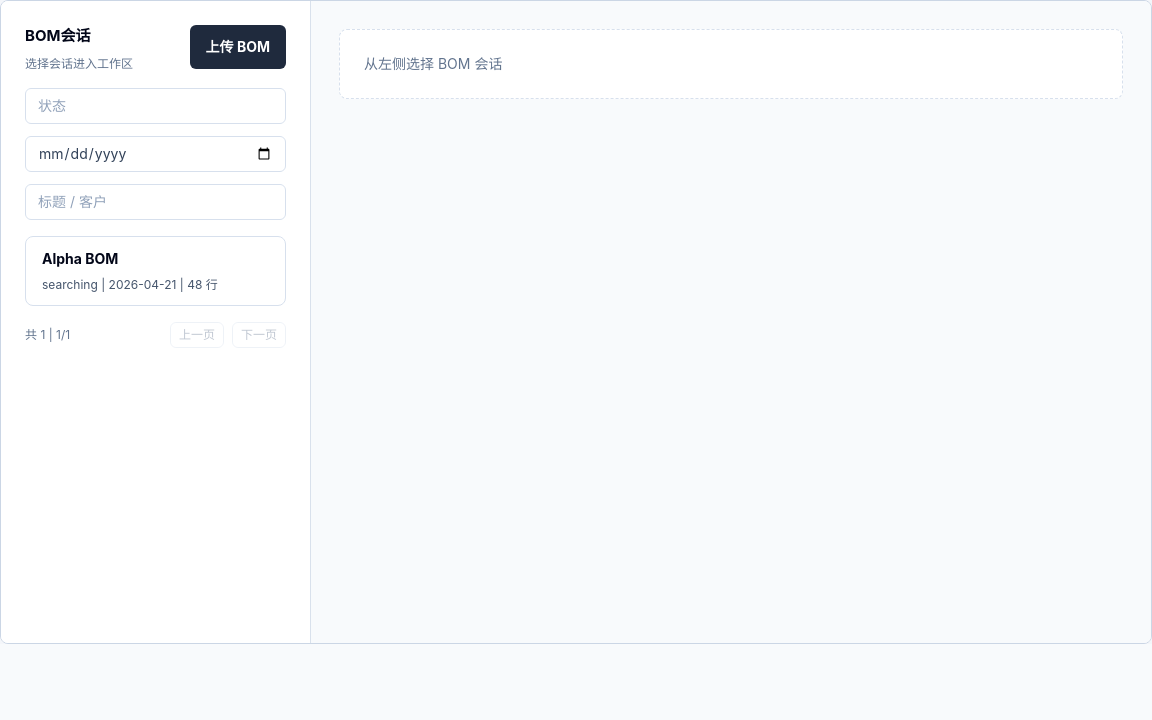
Test: BomWorkbenchPage › opens data clean and manufacturer alias review inside the selected session
This screenshot has width=1152, height=720.
Click the button "Alpha BOM searching | 2026-04-21 | 48 行" at {"x": 80, "y": 258}, box [25,236,286,306]
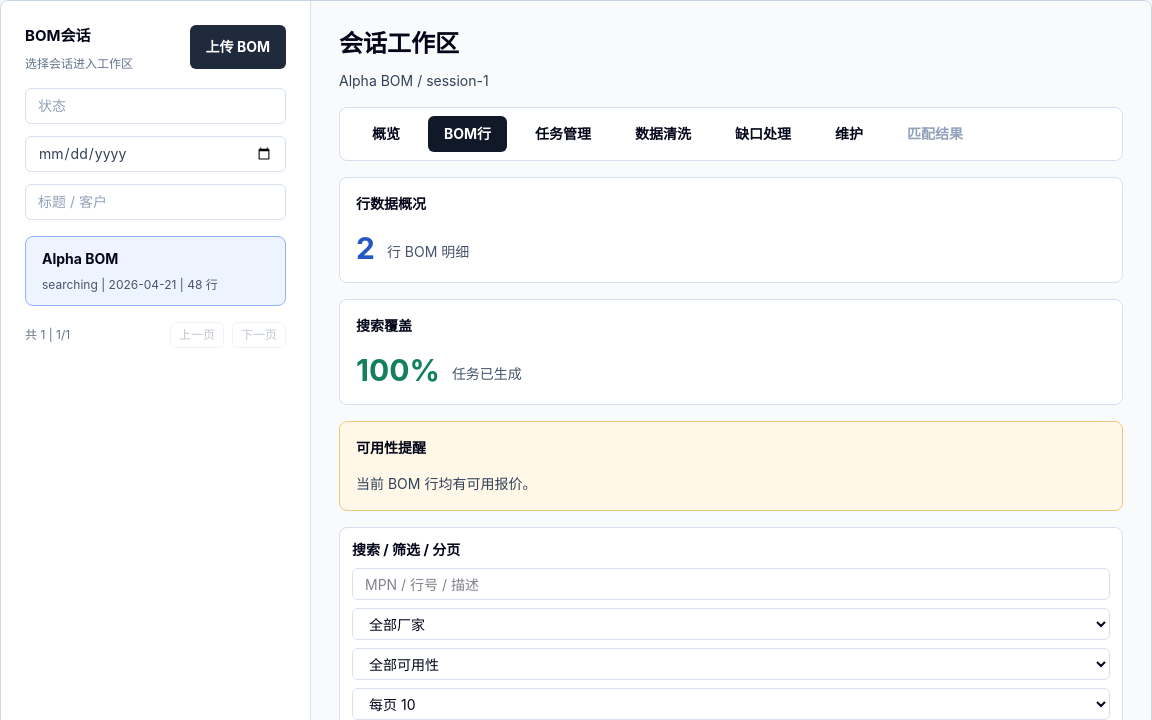
Click the 4th tab at {"x": 663, "y": 134}, box [619,116,707,152]
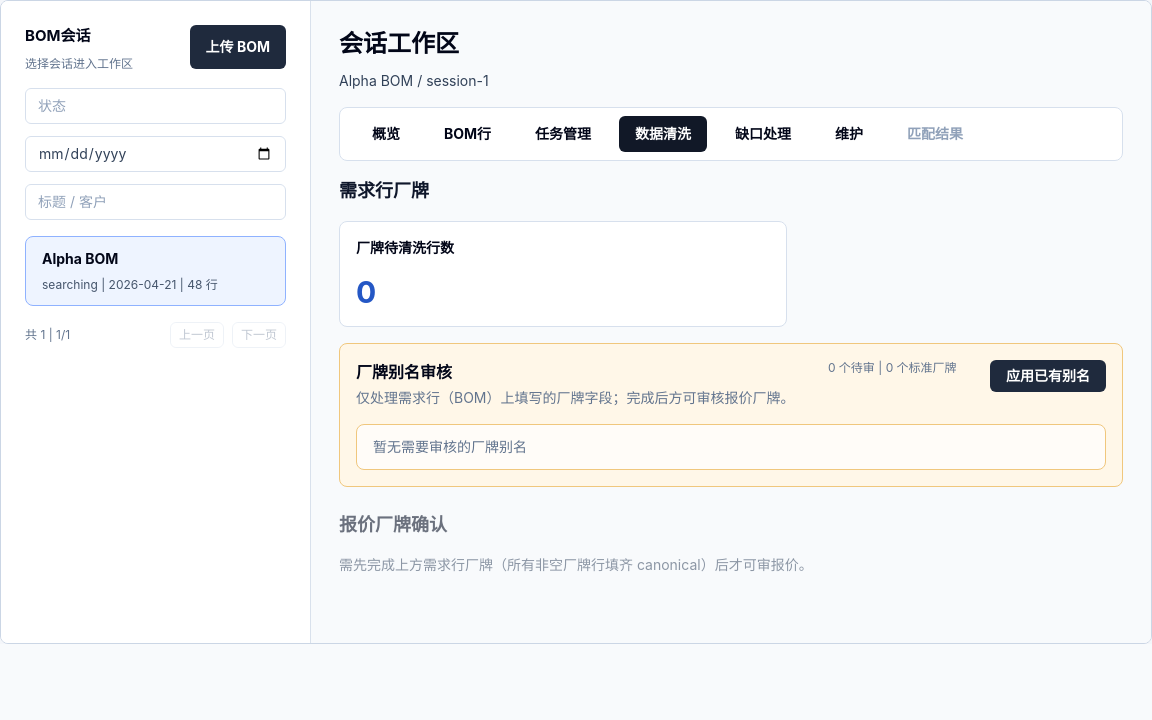
Check: the element with test id "session-data-clean-panel" is shown, box [339,177,1123,575]
Check: the element with test id "manufacturer-alias-review-panel" is shown, box [339,343,1123,487]
